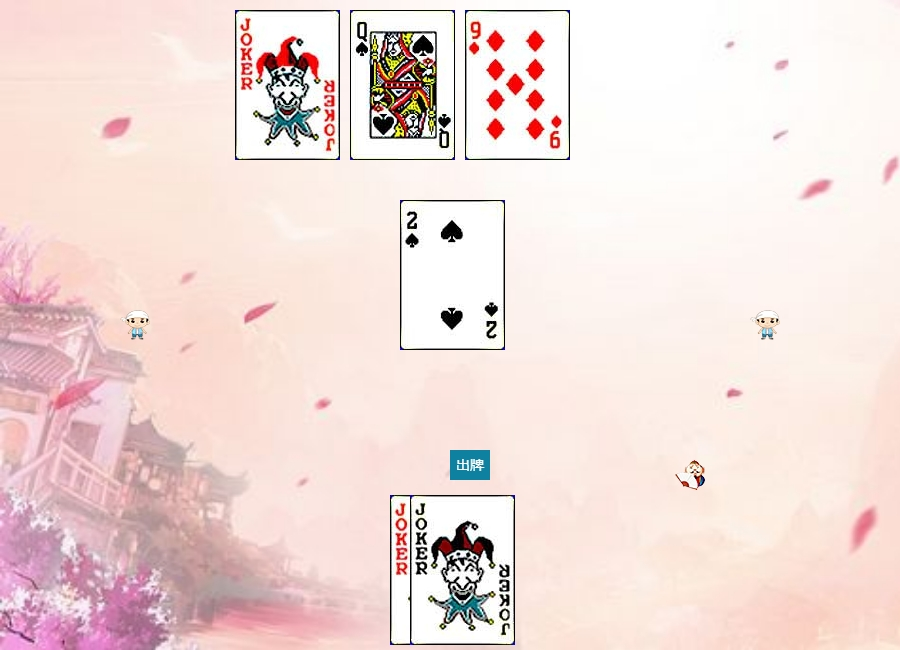12~4: (350, 10, 455, 160)
15~4: (400, 200, 505, 350)
17~3: (410, 495, 515, 645)
18~4: (235, 10, 340, 160), (390, 495, 495, 645)
9~1: (465, 10, 570, 160)
